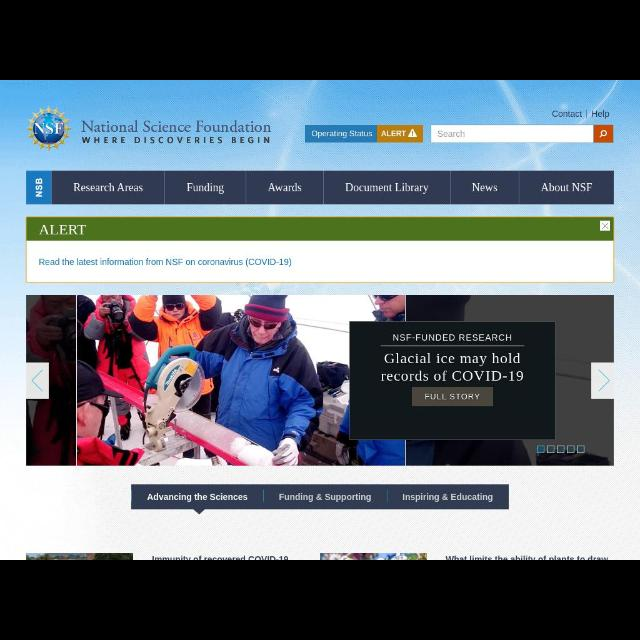button: (28, 363, 48, 397), (594, 364, 612, 398)
icon: (596, 367, 610, 393), (33, 370, 47, 394), (598, 129, 608, 137), (409, 130, 416, 140)
iframe: (26, 218, 614, 282)
image: (26, 296, 614, 464), (28, 104, 72, 152)
input: (429, 125, 613, 142)
multitab: (26, 171, 614, 201)
pageindicator: (536, 442, 590, 458)
text: (372, 328, 528, 382), (78, 119, 272, 147), (343, 178, 431, 196), (401, 490, 499, 506), (278, 490, 374, 504), (144, 491, 248, 503), (66, 180, 148, 192), (538, 178, 594, 195), (180, 177, 226, 197), (550, 106, 610, 120), (312, 128, 372, 142), (266, 180, 304, 196), (422, 390, 482, 400), (468, 178, 499, 196), (434, 128, 466, 138), (32, 177, 44, 200), (382, 128, 406, 138)
textbutton: (304, 124, 424, 142), (411, 386, 492, 406)
